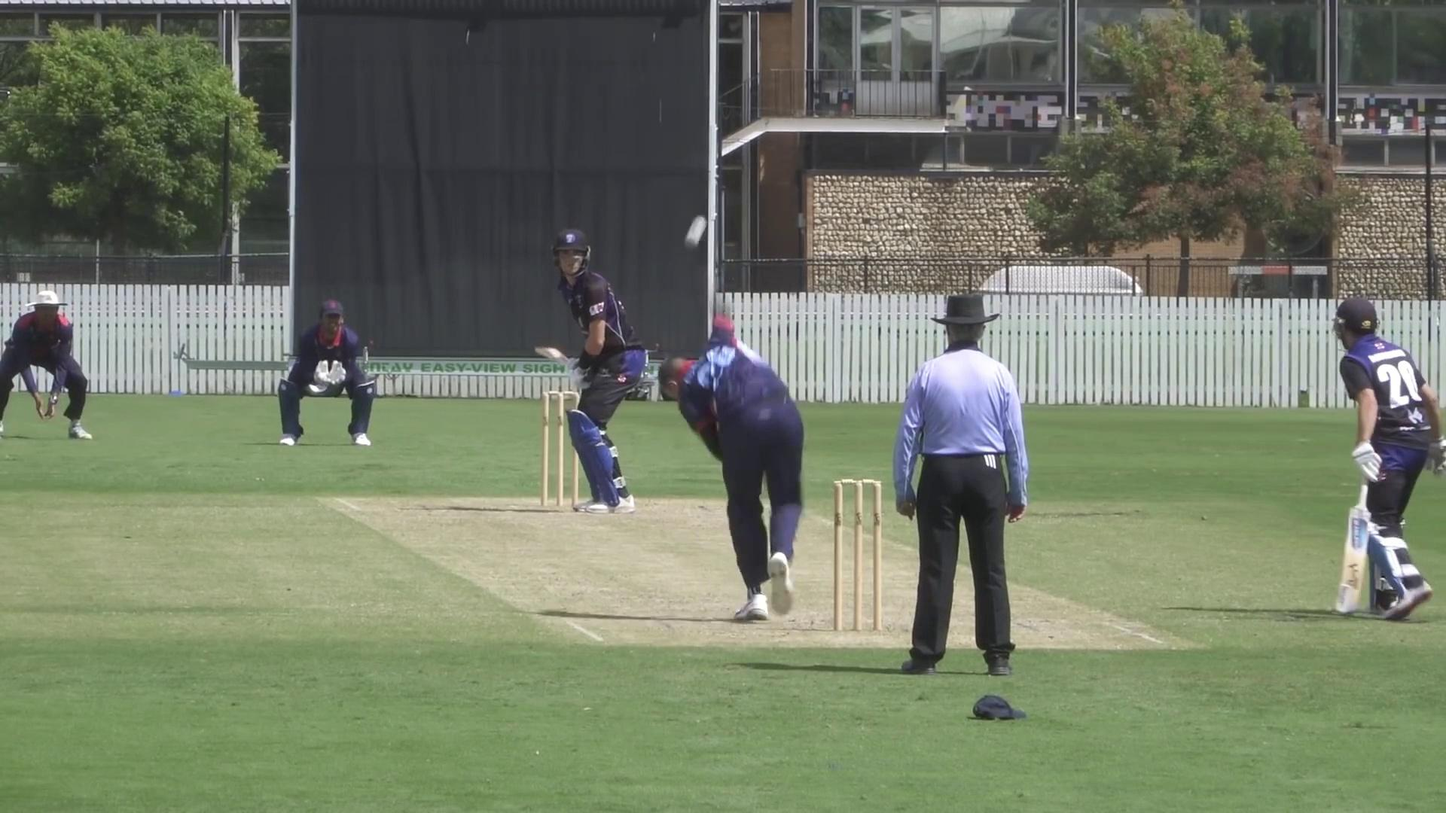ball: (681, 215, 710, 249)
